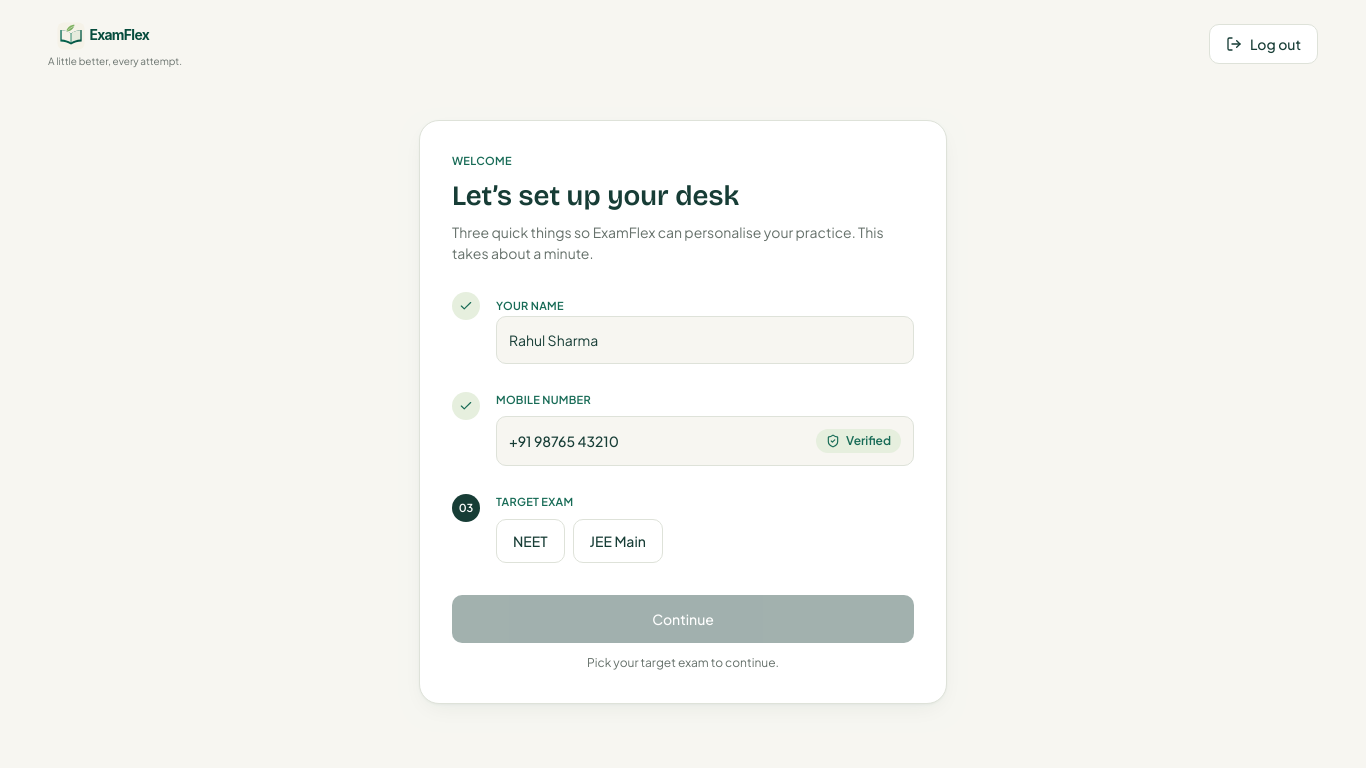
it: OnboardingScreen › name › explains a link-like name specifically
Replace the text in the field labelled "Your name" with "www.evil.com" at coordinates (705, 340), box top-left (496, 316), bottom-right (914, 364)
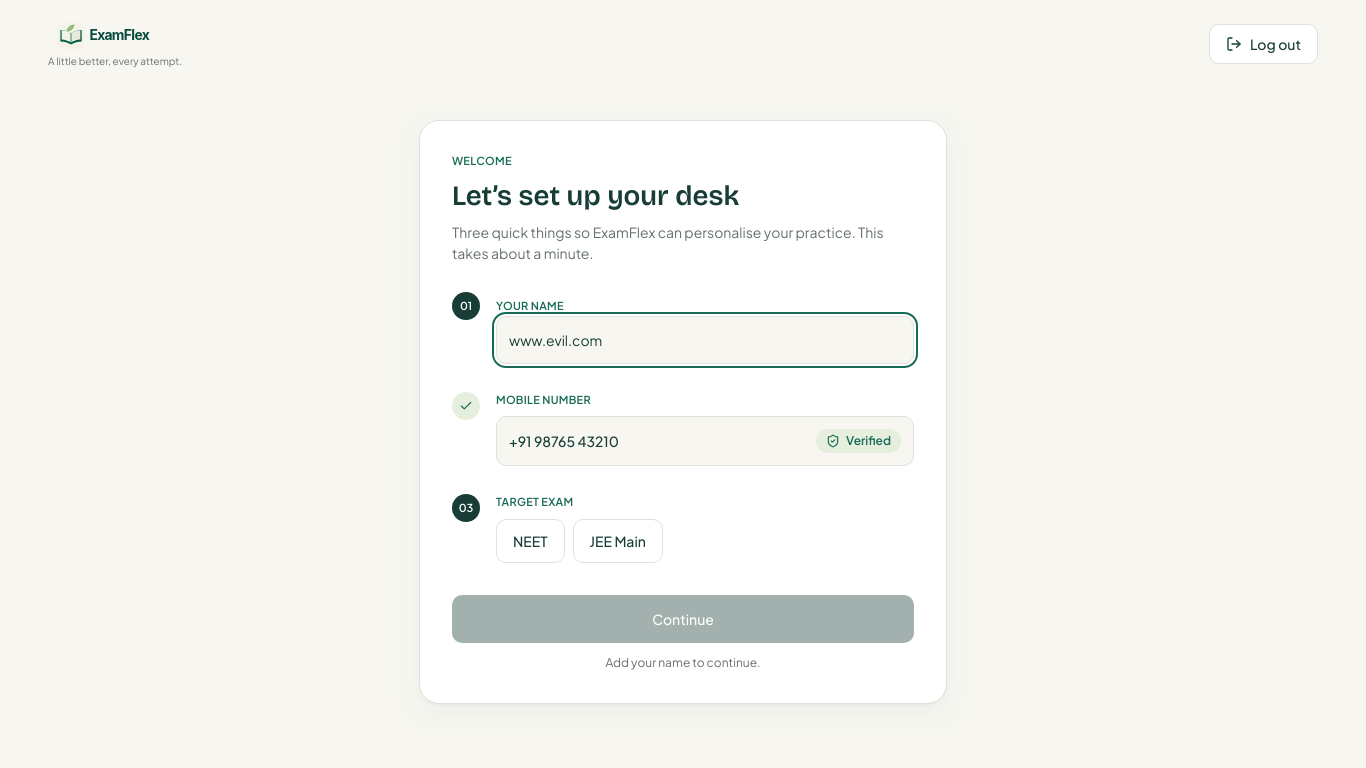
Press Tab
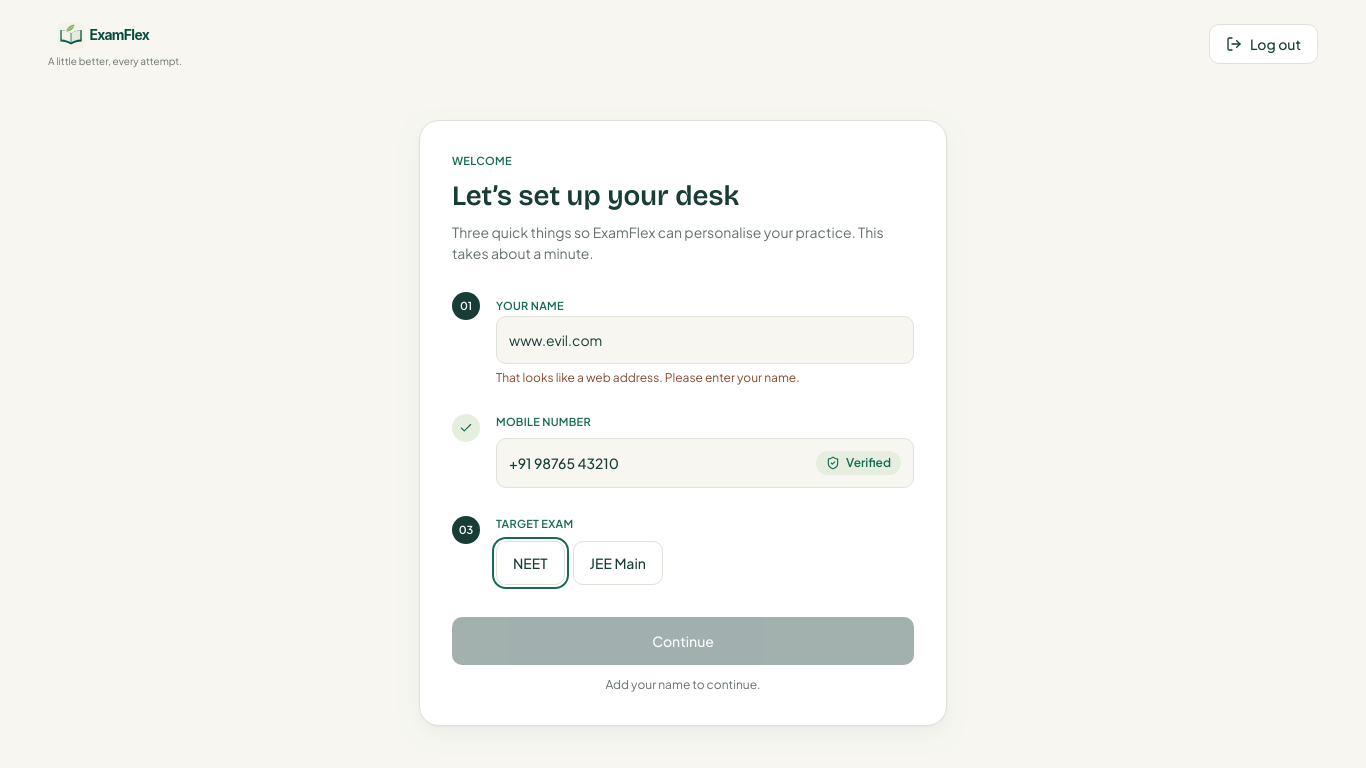
Expected: the message shows "web address", top-left (496, 370), bottom-right (800, 385)
